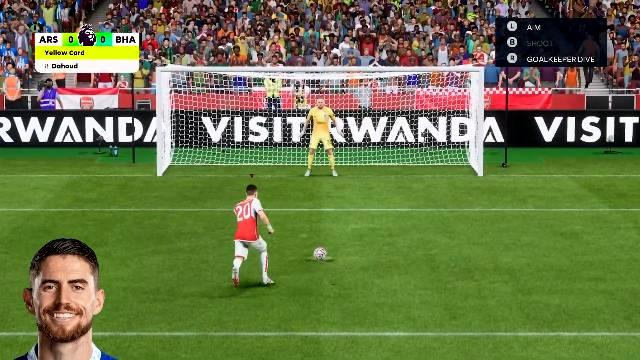bottom-left: (165, 133, 277, 177)
bottom-right: (366, 133, 476, 177)
center-down: (280, 132, 364, 178)
center-up: (276, 74, 364, 130)
circle: (309, 255, 333, 259)
football: (314, 246, 328, 256)
goalkeeper: (300, 103, 348, 178)
player: (228, 183, 276, 299)
top-left: (161, 72, 275, 132)
top-right: (366, 77, 472, 131)
